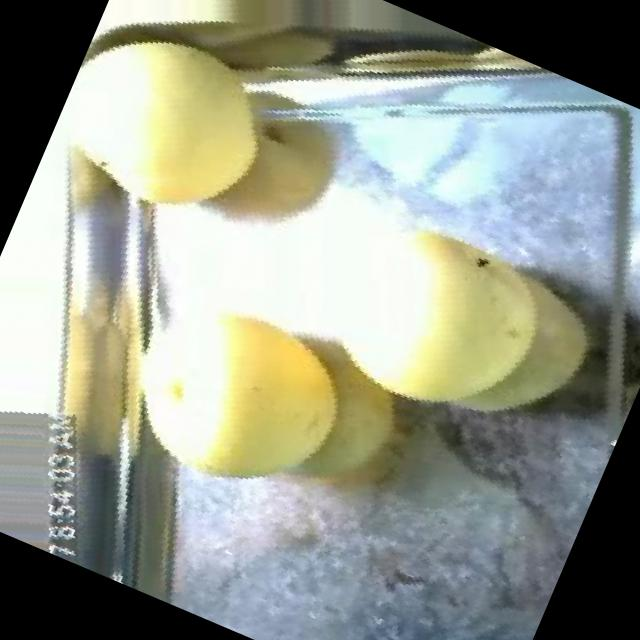Fruit: (312, 168, 640, 495), (121, 258, 401, 552), (34, 0, 326, 272), (164, 57, 390, 303)
